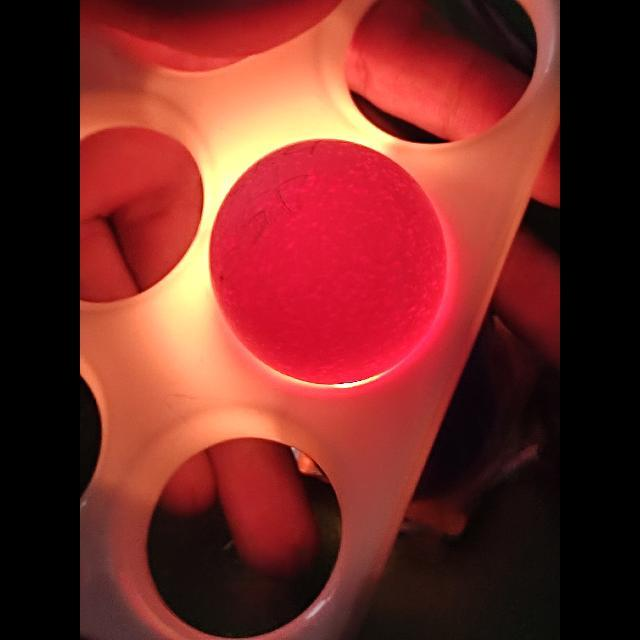Infertile: (210, 134, 448, 380)
